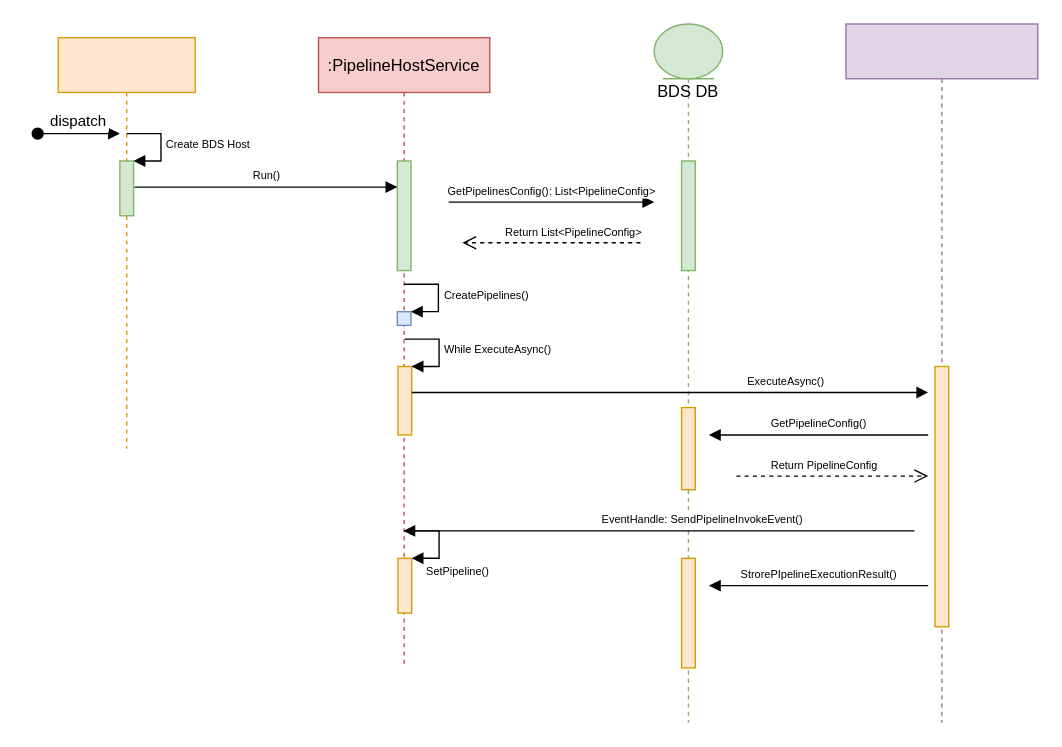
Image size: 1062x747. Some labels were removed from this diagram. The centre of each missing label's shape, as x and y in pixels:
":BDS" belongs at point 126,242.
":DockPipelineOperation" belongs at point 941,373.
